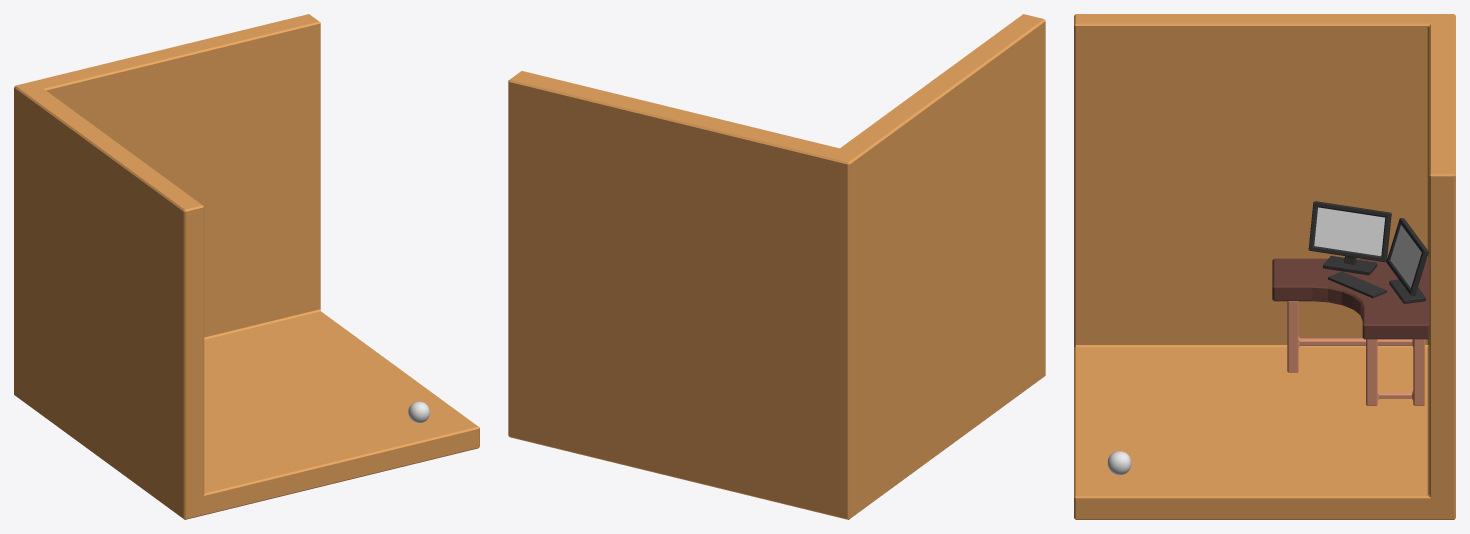
File: IsometricFlightMateTest.glb
3 renders of one model, left to right at view 1: azimuth 30°, elevation 25°; view 2: azimuth 150°, elevation 25°; view 3: azimuth 270°, elevation 25°, orthographic. The views are drawn at different scales.
Visible parts, largest first — view 1: Room; view 2: Room; view 3: Room, Table, Monitor, Table_Stand, Keyboard, Ball.
Part boxes in pixels (bbox=[...]): Room: bbox=[14, 14, 479, 519]; Room: bbox=[508, 14, 1045, 519]; Room: bbox=[1074, 14, 1455, 519]; Table: bbox=[1272, 258, 1429, 339]; Monitor: bbox=[1308, 201, 1428, 303]; Table_Stand: bbox=[1287, 301, 1424, 405]; Keyboard: bbox=[1328, 271, 1386, 298]; Ball: bbox=[1107, 451, 1131, 475].
Bounding box in the file's own units: 2.15 × 2.15 × 2.15.
